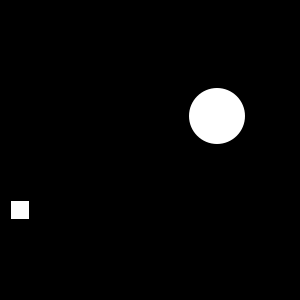circle: (11, 201, 29, 219)
rectangle: (189, 88, 245, 144)
